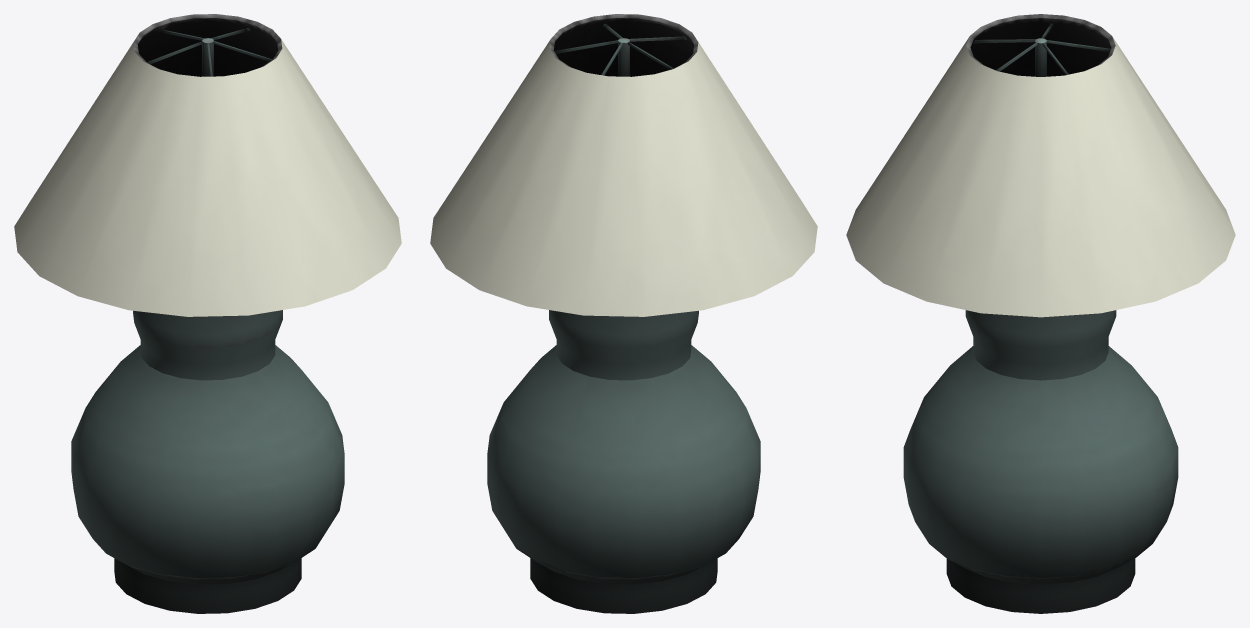
Rendered from lamp.fbx.
3 renders of one model, left to right at view 1: azimuth 30°, elevation 25°; view 2: azimuth 150°, elevation 25°; view 3: azimuth 270°, elevation 25°, orthographic.
Visible parts, largest first — view 1: lamp; view 2: lamp; view 3: lamp.
Part boxes in pixels (bbox=[...]): lamp: bbox=[14, 14, 401, 613]; lamp: bbox=[430, 14, 817, 613]; lamp: bbox=[846, 14, 1235, 613].
Size of the model in its own units: 46.41 by 70.29 by 46.41.
1 material, 1 textured.
